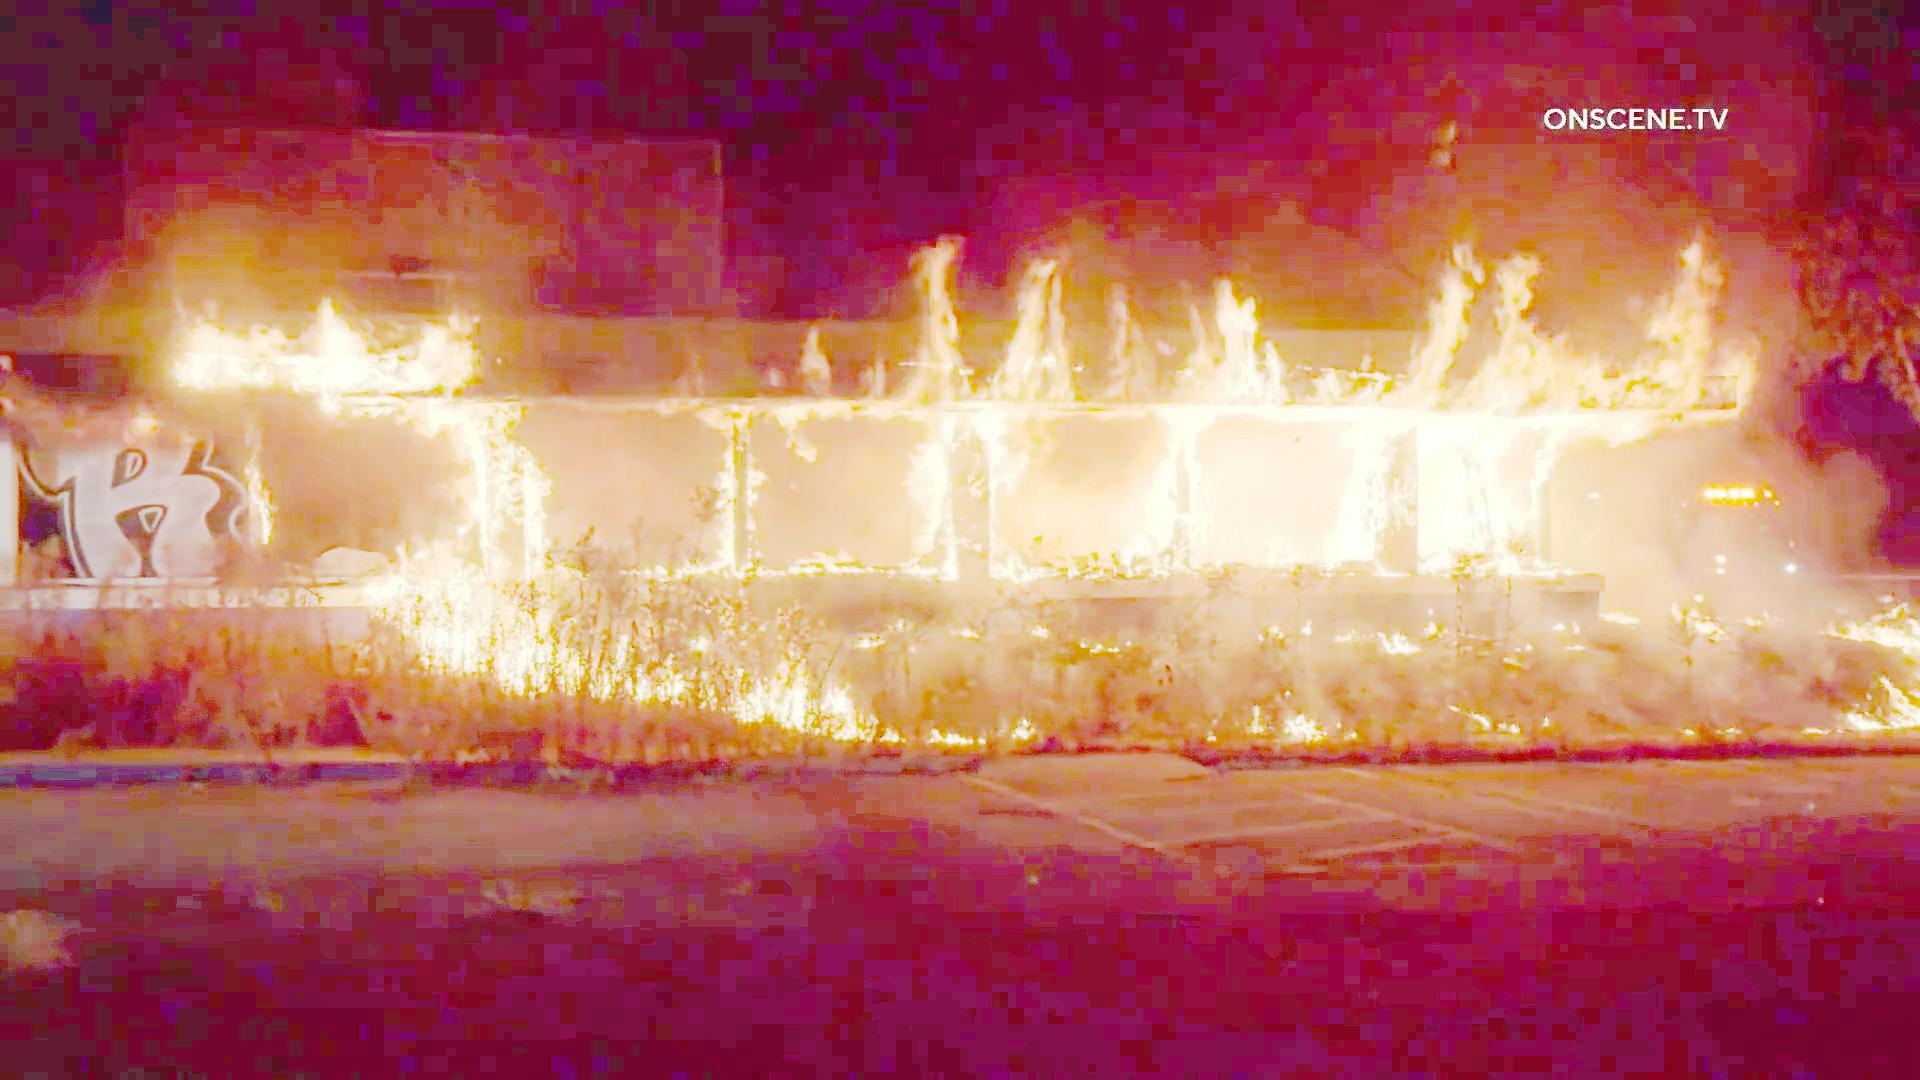fire: (913, 423, 1590, 596), (153, 237, 501, 431), (1155, 231, 1423, 421), (856, 223, 1129, 405), (1456, 245, 1753, 406), (384, 443, 568, 666)
